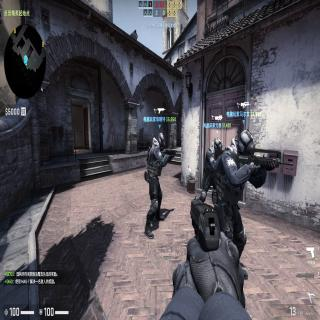CT-Body: (144, 132, 174, 239)
CT-Head: (237, 132, 255, 160), (214, 138, 222, 155), (157, 133, 165, 150)
